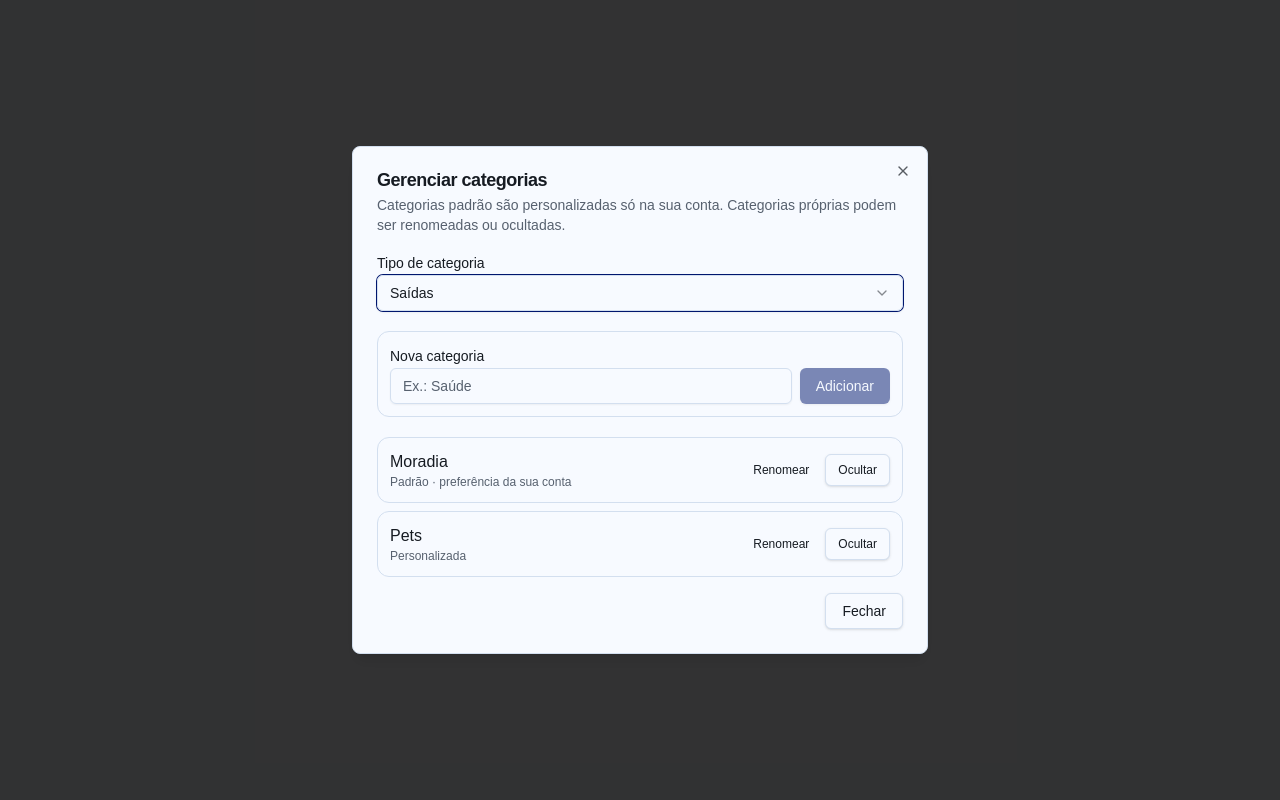
Scenario: FinancialCategoryManager › keeps category kinds separate and creates a user-owned category
Check: the text "Moradia" is shown, box [390,453,448,470]
Check: the list named "Categorias de saída" is shown, box [377,437,903,577]
Type "Saúde" into the field labelled "Nova categoria" at coordinates (591, 386), box [390,368,792,404]
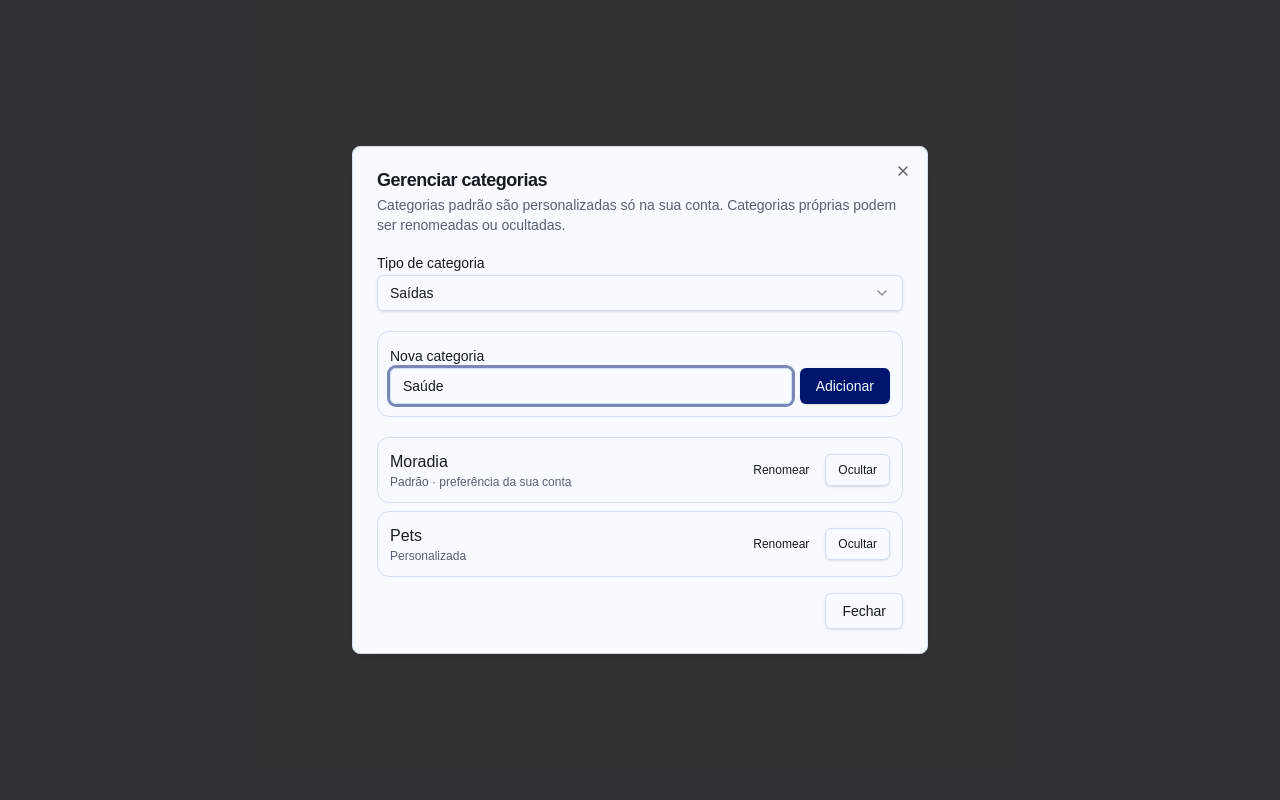
Click the button "Adicionar" at coordinates (845, 386), box [800,368,890,404]
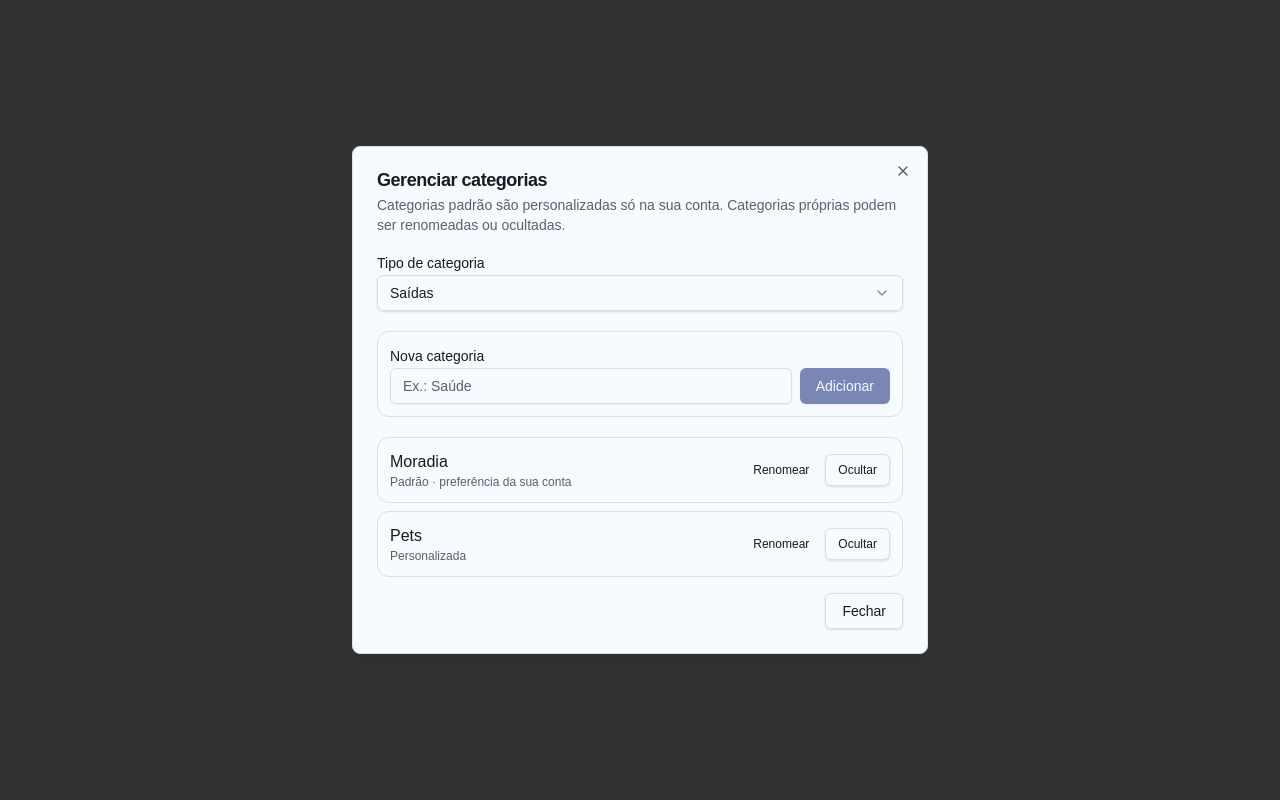
Click the dropdown named "Tipo de categoria" at coordinates (412, 293), box [377,275,903,311]
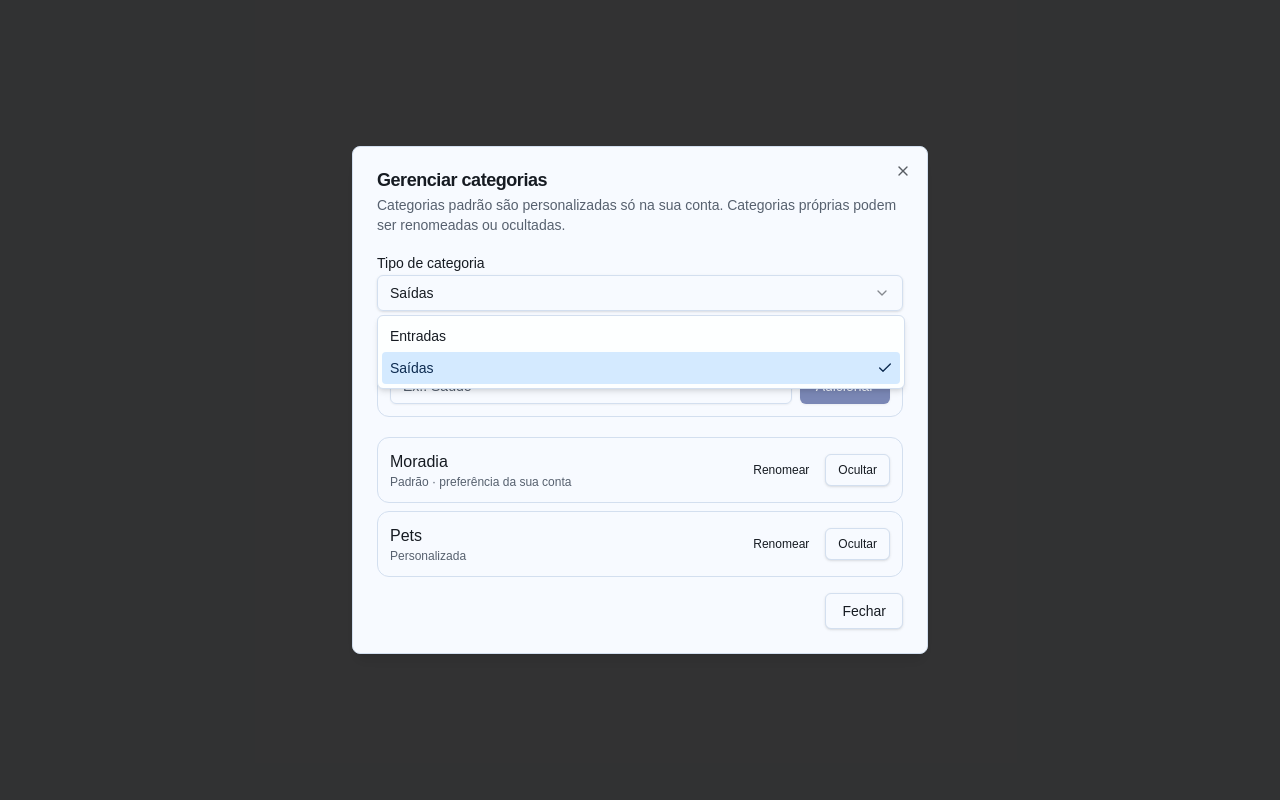
Click the option "Entradas" at coordinates (418, 336), box [390,328,446,344]
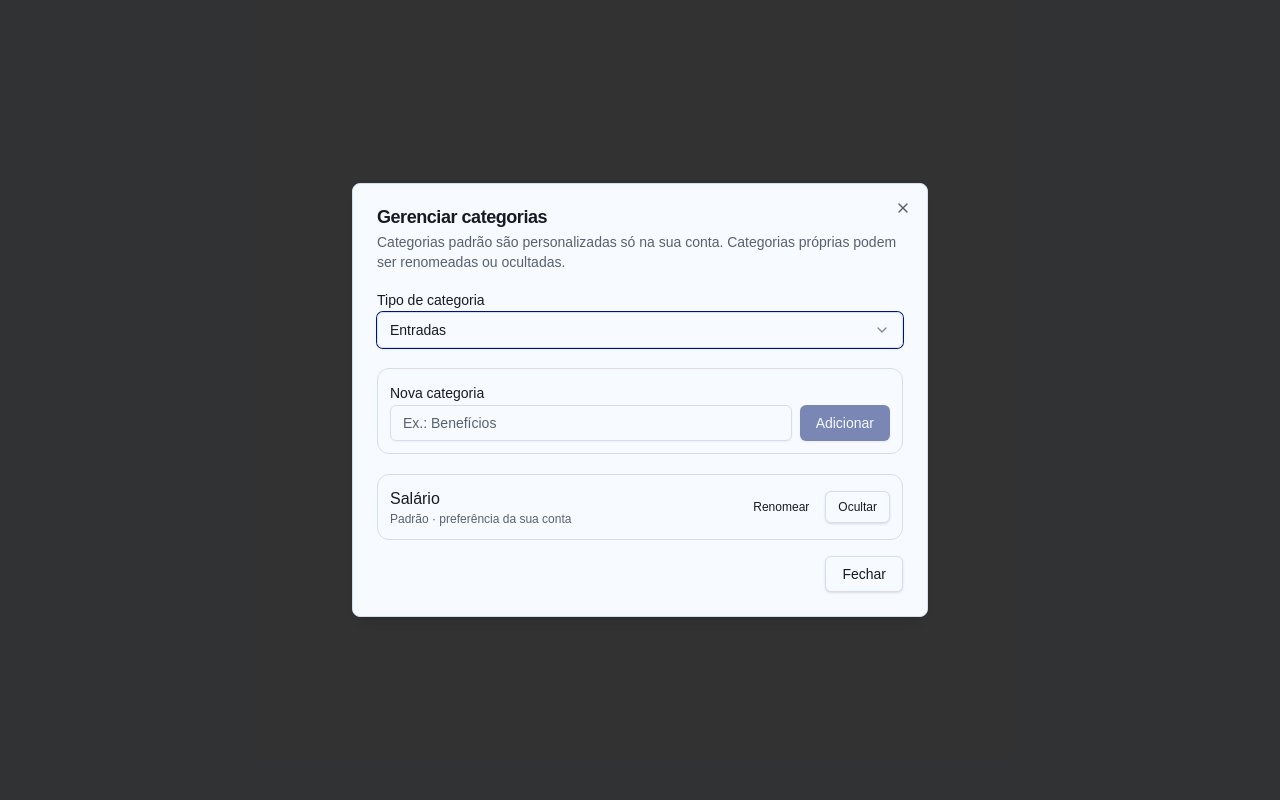
Check: the text "Salário" is shown, box [390,490,440,507]
Check: the text "Moradia" is gone
